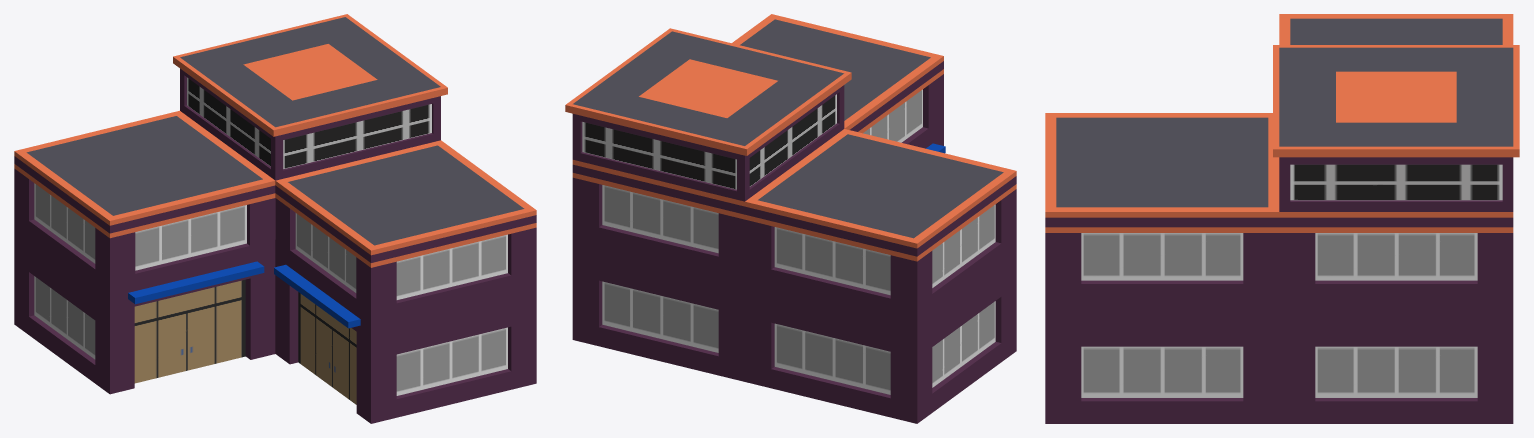
Rendered from building2b.FBX.
The picture shows the model from 3 angles, left to right: view 1: azimuth 30°, elevation 25°; view 2: azimuth 150°, elevation 25°; view 3: azimuth 270°, elevation 25°; orthographic projection. The views are drawn at different scales.
Visible parts, largest first — view 1: building2b; view 2: building2b; view 3: building2b.
Part boxes in pixels (x1,y1,x2,y2): building2b: (14,14,536,423); building2b: (565,14,1016,423); building2b: (1045,14,1519,423).
Size of the model in its own units: 20.27 by 13.08 by 20.27.
